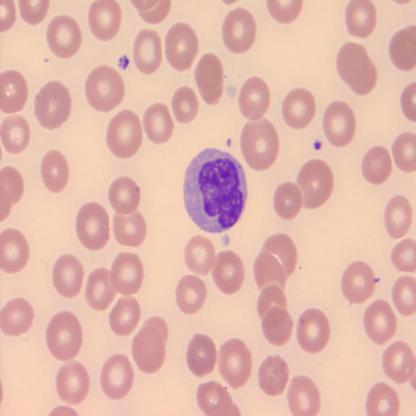Monocyte: (181, 145, 250, 235)
